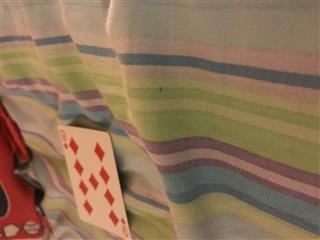NineOfDiamonds: (57, 124, 132, 240)
